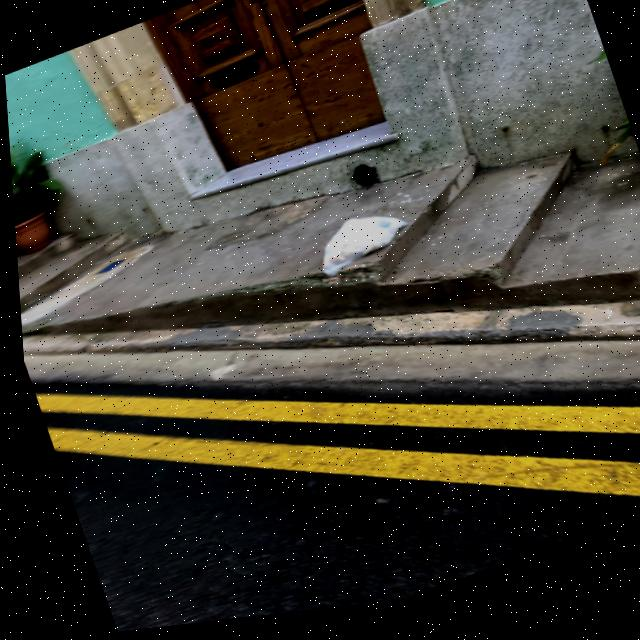Organic Waste -White Bag-: (305, 206, 415, 291)
